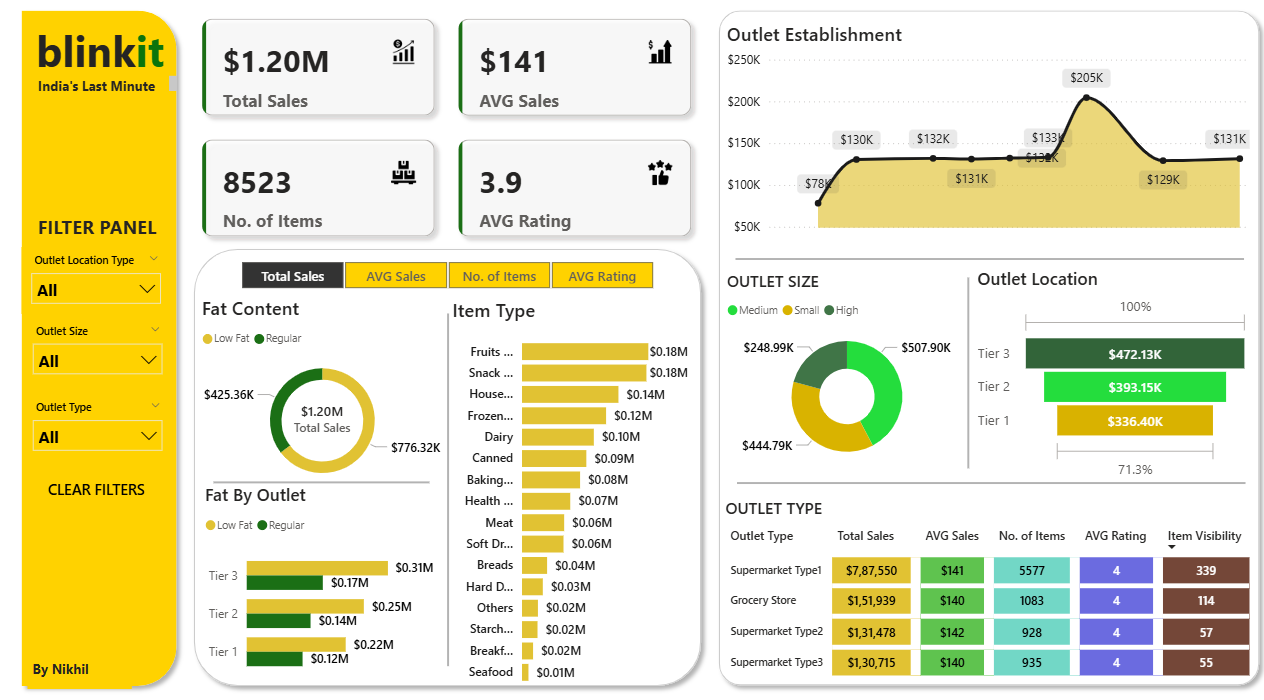

Layout of this report page (visuals, bound fields, positions):
{"tool":"powerbi","page":{"name":"Page 1","canvas":[1280,720],"ordinal":0},"visuals":[{"type":"shape","box":[13.3,11.1,174.4,700],"z":0},{"type":"textbox","box":[19.4,81,165.2,29.1],"z":1000},{"type":"textbox","box":[19.4,25.9,165.2,69.6],"z":2000},{"type":"cardVisual","fields":{"Data":["BlinkIT Grocery Data.Total Sales","BlinkIT Grocery Data.AVG Sales","BlinkIT Grocery Data.No. of Items","BlinkIT Grocery Data.AVG Rating"]},"box":[187.8,11.3,529.5,255.8],"z":3000},{"type":"shape","box":[188.2,251.8,530,459.1],"z":4000},{"type":"slicer","fields":{"Values":["Metrics.Metrics"]},"box":[220.2,267.2,464.7,40.5],"z":5000},{"type":"donutChart","title":"Fat Content","fields":{"Y":["BlinkIT Grocery Data.Total Sales"],"Category":["BlinkIT Grocery Data.Item Fat Content"]},"box":[200,307,253,201],"z":6000},{"type":"cardVisual","fields":{"Data":["BlinkIT Grocery Data.Total Sales"]},"box":[280,396.7,92.2,57.8],"z":7000},{"type":"clusteredBarChart","title":"Fat By Outlet  ","fields":{"Y":["BlinkIT Grocery Data.Total Sales"],"Category":["BlinkIT Grocery Data.Outlet Location Type"],"Series":["BlinkIT Grocery Data.Item Fat Content"]},"box":[202.4,497.1,241.3,207.3],"z":8000},{"type":"shape","box":[216,483,218,26],"z":9000},{"type":"shape","box":[443.7,325.5,19.4,356.2],"z":10000},{"type":"barChart","title":"Item Type","fields":{"Y":["BlinkIT Grocery Data.Total Sales"],"Category":["BlinkIT Grocery Data.Item Type"]},"box":[453.4,309.3,247.7,401.6],"z":11000},{"type":"shape","box":[717.3,11.3,563.5,699.5],"z":12000},{"type":"lineChart","title":"Outlet Establishment","fields":{"Y":["BlinkIT Grocery Data.Total Sales"],"Category":["BlinkIT Grocery Data.Outlet Establishment Year"]},"box":[730.3,30.8,537.6,221.8],"z":13000},{"type":"shape","box":[743.2,252.6,513.3,35.6],"z":14000},{"type":"donutChart","title":"OUTLET SIZE","fields":{"Y":["BlinkIT Grocery Data.Total Sales"],"Category":["BlinkIT Grocery Data.Outlet Size"]},"box":[730.3,281.7,252.6,207.3],"z":15000},{"type":"funnel","title":"Outlet Location","fields":{"Y":["BlinkIT Grocery Data.Total Sales"],"Category":["BlinkIT Grocery Data.Outlet Location Type"]},"box":[982.9,278.5,285,218.6],"z":16000},{"type":"shape","box":[744.8,482.5,513.3,27.5],"z":17000},{"type":"shape","box":[973.2,289.8,9.7,192.7],"z":18000},{"type":"pivotTable","title":"OUTLET TYPE","fields":{"Rows":["BlinkIT Grocery Data.Outlet Type"],"Values":["BlinkIT Grocery Data.Total Sales","BlinkIT Grocery Data.AVG Sales","BlinkIT Grocery Data.No. of Items","BlinkIT Grocery Data.AVG Rating","Sum(BlinkIT Grocery Data.Item Visibility)"]},"box":[727.8,510,552.2,187.8],"z":19000},{"type":"slicer","fields":{"Values":["BlinkIT Grocery Data.Outlet Location Type"]},"box":[22.7,259.1,150.6,66.4],"z":20000},{"type":"slicer","fields":{"Values":["BlinkIT Grocery Data.Outlet Size"]},"box":[24.3,330.3,150.6,66.4],"z":21000},{"type":"slicer","fields":{"Values":["BlinkIT Grocery Data.Outlet Type"]},"box":[24.2,407.5,150.8,66.7],"z":22000},{"type":"textbox","box":[29.1,220.2,140.9,38.9],"z":22001},{"type":"actionButton","box":[42.1,477.7,111.7,50.2],"z":22002},{"type":"textbox","box":[29.1,668.7,105.2,35.6],"z":22003}]}

Visuals, with their boxes in screenshot pixels (x1, y1, x2, y2), scaled from the page's 1280x720 canvas onto the 1264x700 screenshot:
shape: detection(13, 11, 185, 691)
textbox: detection(19, 79, 182, 107)
textbox: detection(19, 25, 182, 93)
cardVisual - BlinkIT Grocery Data.Total Sales x BlinkIT Grocery Data.AVG Sales: detection(185, 11, 708, 260)
shape: detection(186, 245, 709, 691)
slicer - Metrics.Metrics: detection(217, 260, 676, 299)
"Fat Content" donutChart: detection(198, 298, 447, 494)
cardVisual - BlinkIT Grocery Data.Total Sales: detection(276, 386, 368, 442)
"Fat By Outlet  " clusteredBarChart: detection(200, 483, 438, 685)
shape: detection(213, 470, 429, 495)
shape: detection(438, 316, 457, 663)
"Item Type" barChart: detection(448, 301, 692, 691)
shape: detection(708, 11, 1263, 691)
"Outlet Establishment" lineChart: detection(721, 30, 1252, 246)
shape: detection(734, 246, 1241, 280)
"OUTLET SIZE" donutChart: detection(721, 274, 971, 475)
"Outlet Location" funnel: detection(971, 271, 1252, 483)
shape: detection(735, 469, 1242, 496)
shape: detection(961, 282, 971, 469)
"OUTLET TYPE" pivotTable: detection(719, 496, 1263, 678)
slicer - BlinkIT Grocery Data.Outlet Location Type: detection(22, 252, 171, 316)
slicer - BlinkIT Grocery Data.Outlet Size: detection(24, 321, 173, 386)
slicer - BlinkIT Grocery Data.Outlet Type: detection(24, 396, 173, 461)
textbox: detection(29, 214, 168, 252)
actionButton: detection(42, 464, 152, 513)
textbox: detection(29, 650, 133, 685)
